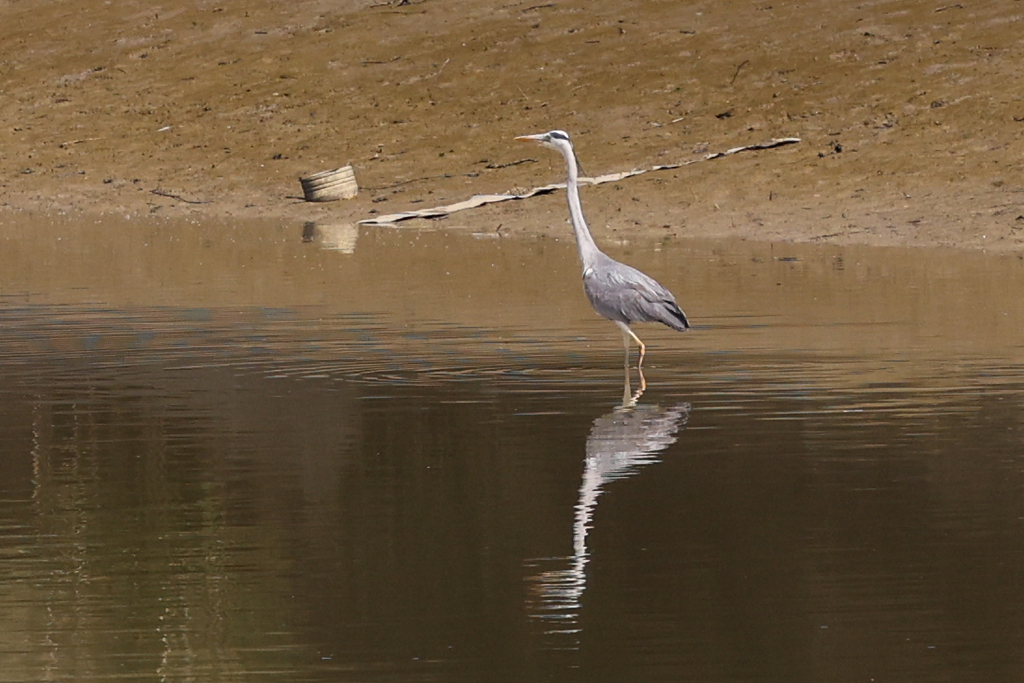heron: (511, 129, 695, 397)
